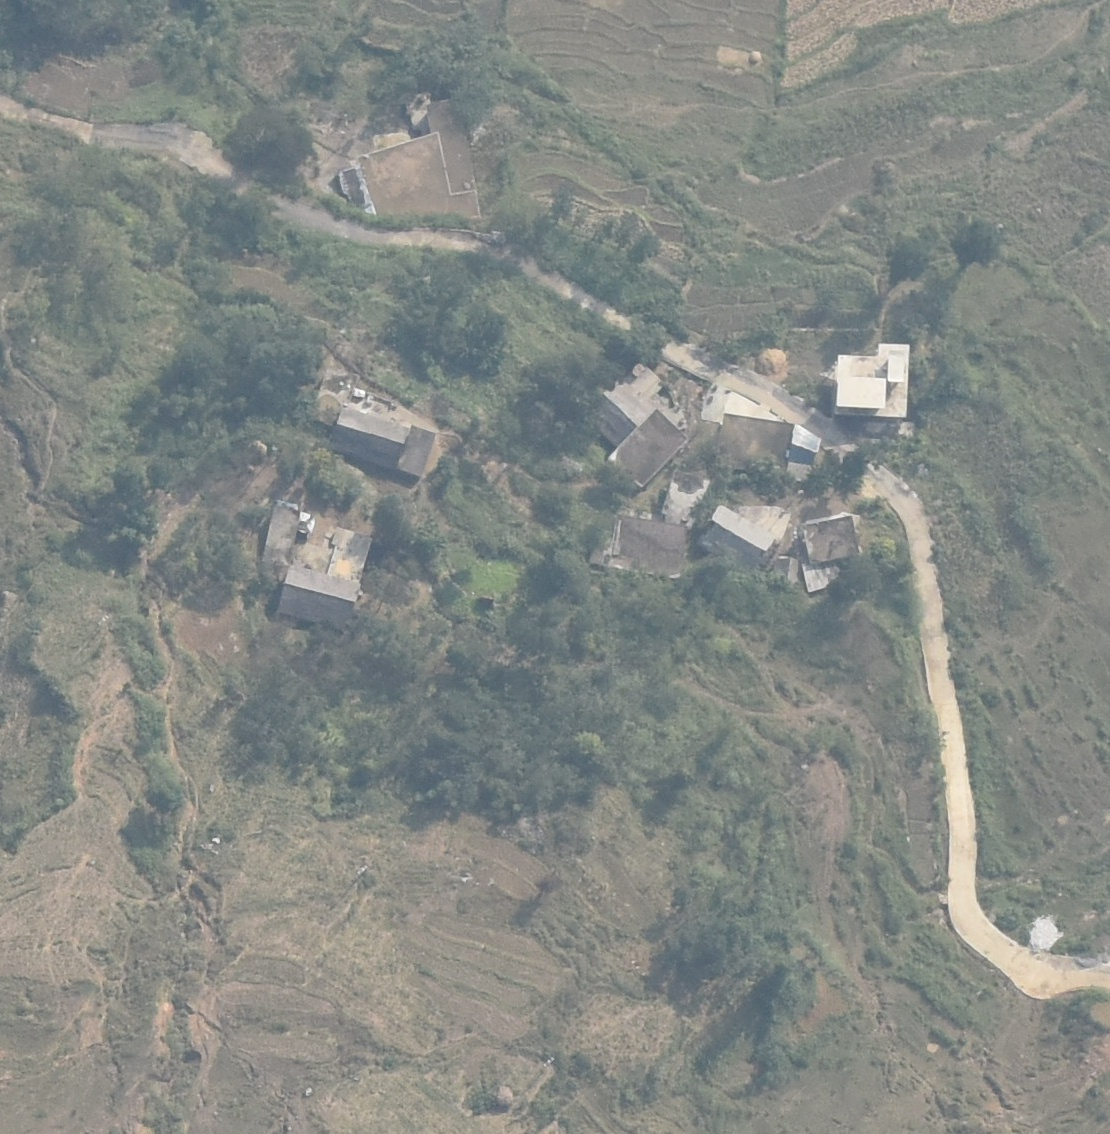building: (332, 88, 508, 228), (328, 395, 438, 479), (605, 405, 690, 493), (590, 365, 677, 444), (834, 343, 917, 423), (609, 509, 689, 583), (798, 512, 868, 593), (704, 505, 780, 577), (277, 566, 361, 629), (719, 408, 790, 474), (261, 499, 305, 571), (791, 420, 823, 477)
